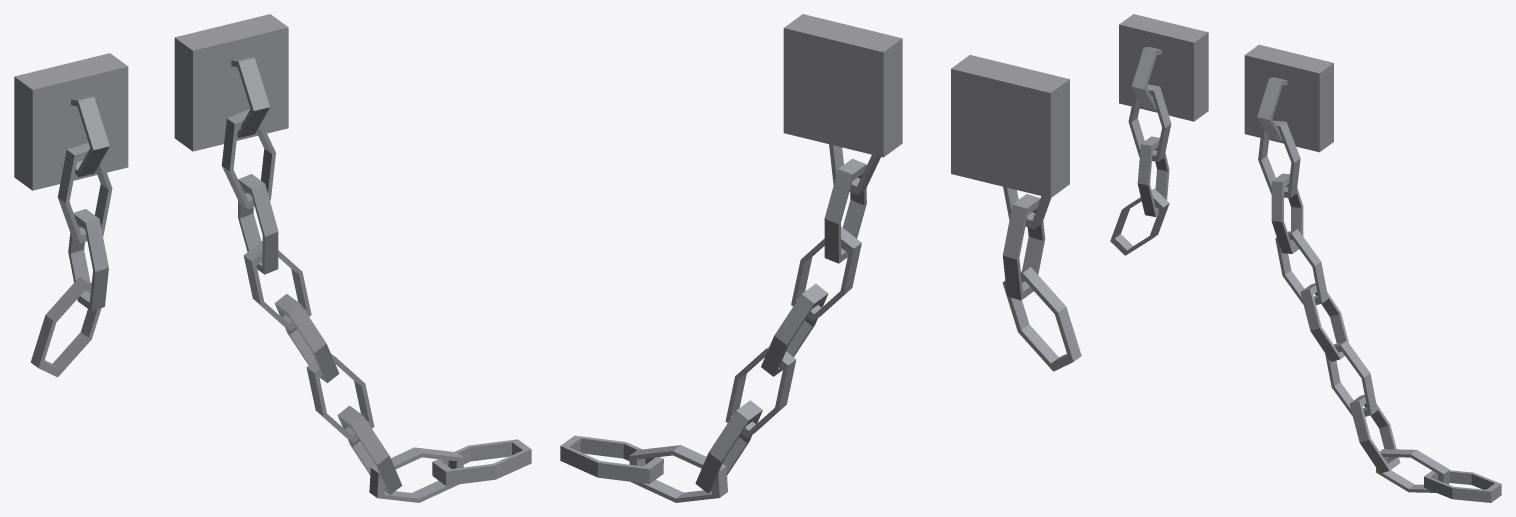
File: Cadenas.fbx
3 renders of one model, left to right at view 1: azimuth 30°, elevation 25°; view 2: azimuth 150°, elevation 25°; view 3: azimuth 330°, elevation 25°, orthographic. The views are drawn at different scales.
Parts seen in each view (by area): view 1: Cadenas; view 2: Cadenas; view 3: Cadenas.
Part boxes in pixels (x1=…): Cadenas: x1=14, y1=14, x2=531, y2=502; Cadenas: x1=560, y1=14, x2=1081, y2=502; Cadenas: x1=1110, y1=14, x2=1501, y2=502.
Bounding box in the file's own units: 2.6 × 2.53 × 0.3752.
